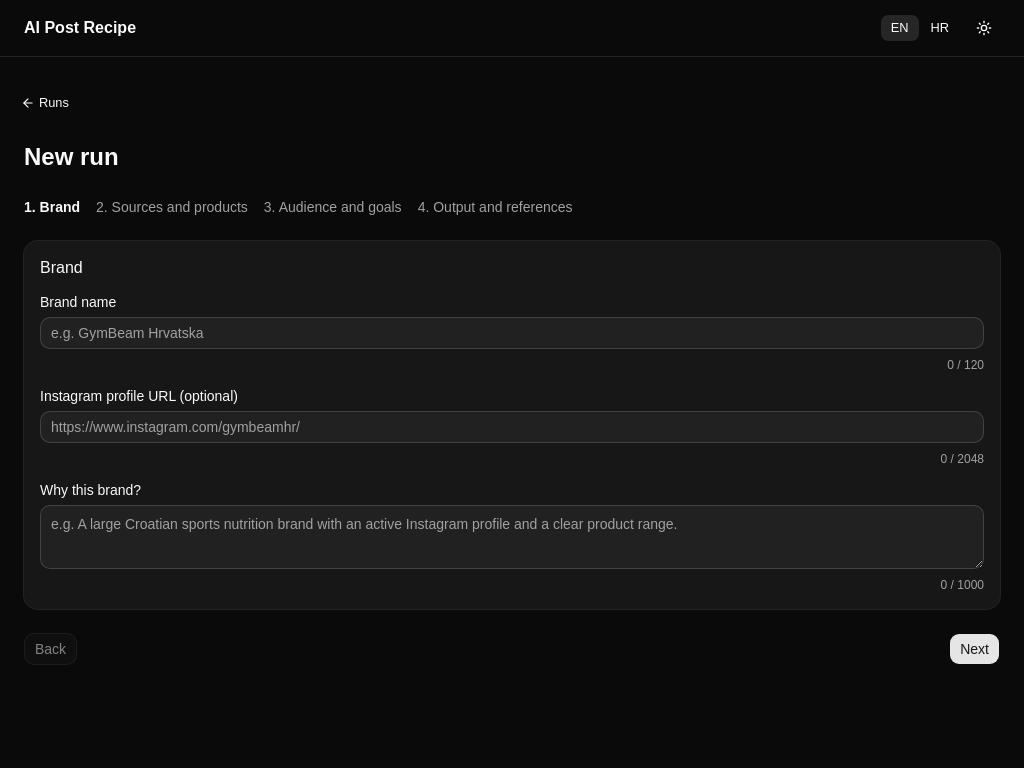
Brief form › stays on the first step until its fields are valid
Type "https://facebook.com/x" into the field labelled "Instagram profile URL (optional)" at (512, 427), box [40, 411, 984, 443]
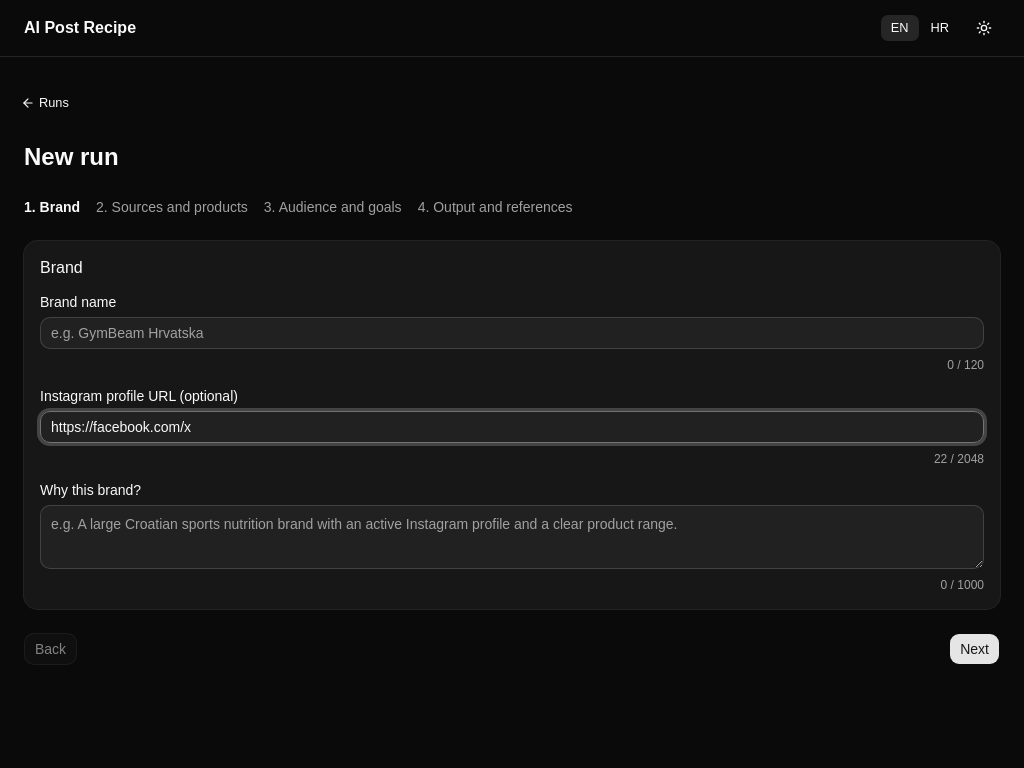
Click the button "Next" at (975, 649), box [949, 633, 1000, 665]
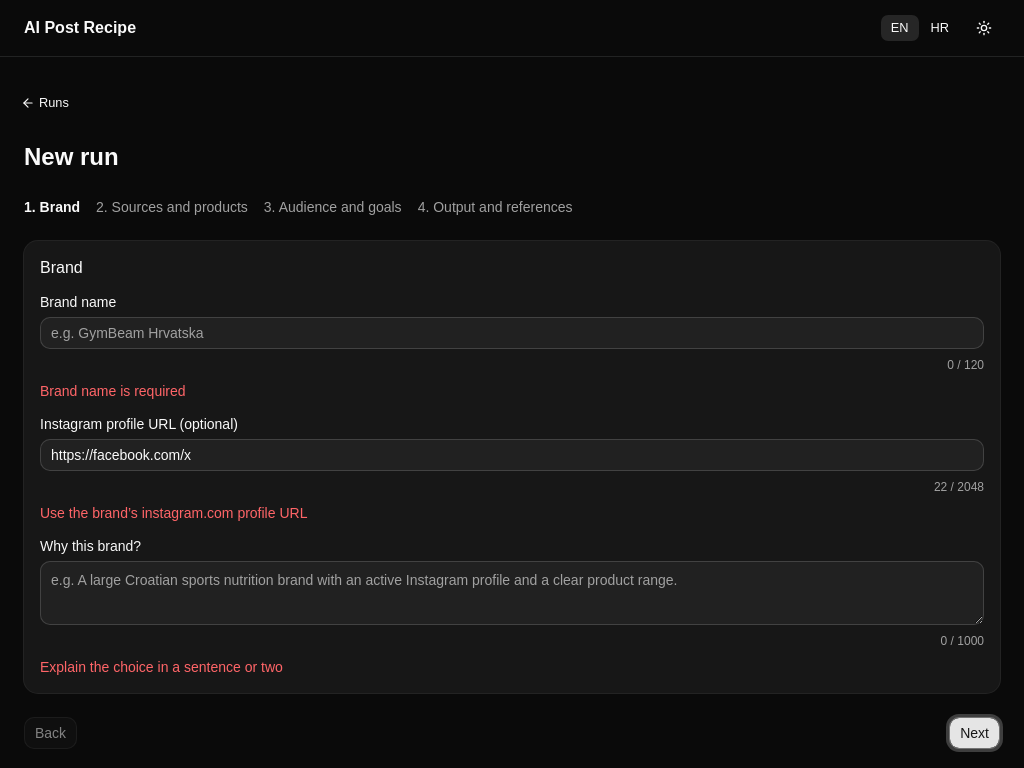
Now the text "Brand name is required" is shown, box [40, 383, 186, 399]
Now the text "Use the brand’s instagram.com profile URL" is shown, box [40, 505, 307, 521]
